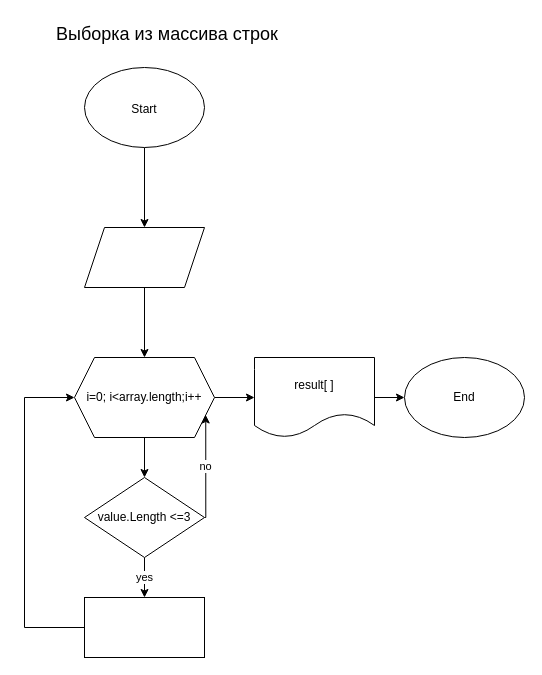
This 542x675 diagram has some shape labels left out. Each missing label, with the box of its shape:
array[ ]: (84, 226, 204, 288)
result[I] = value: (84, 596, 204, 658)
